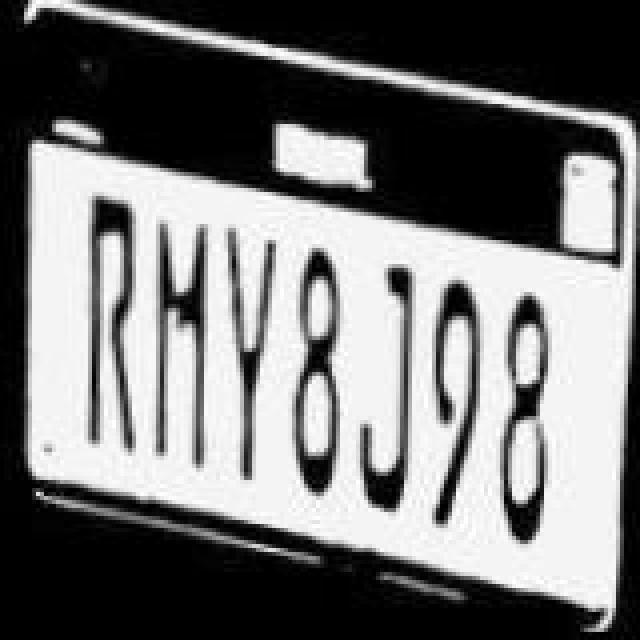8: (484, 294, 568, 542), (280, 248, 360, 496)
9: (414, 274, 502, 530)
J: (346, 264, 422, 516)
M: (140, 218, 228, 490)
R: (76, 188, 152, 456)
Y: (212, 222, 284, 498)
